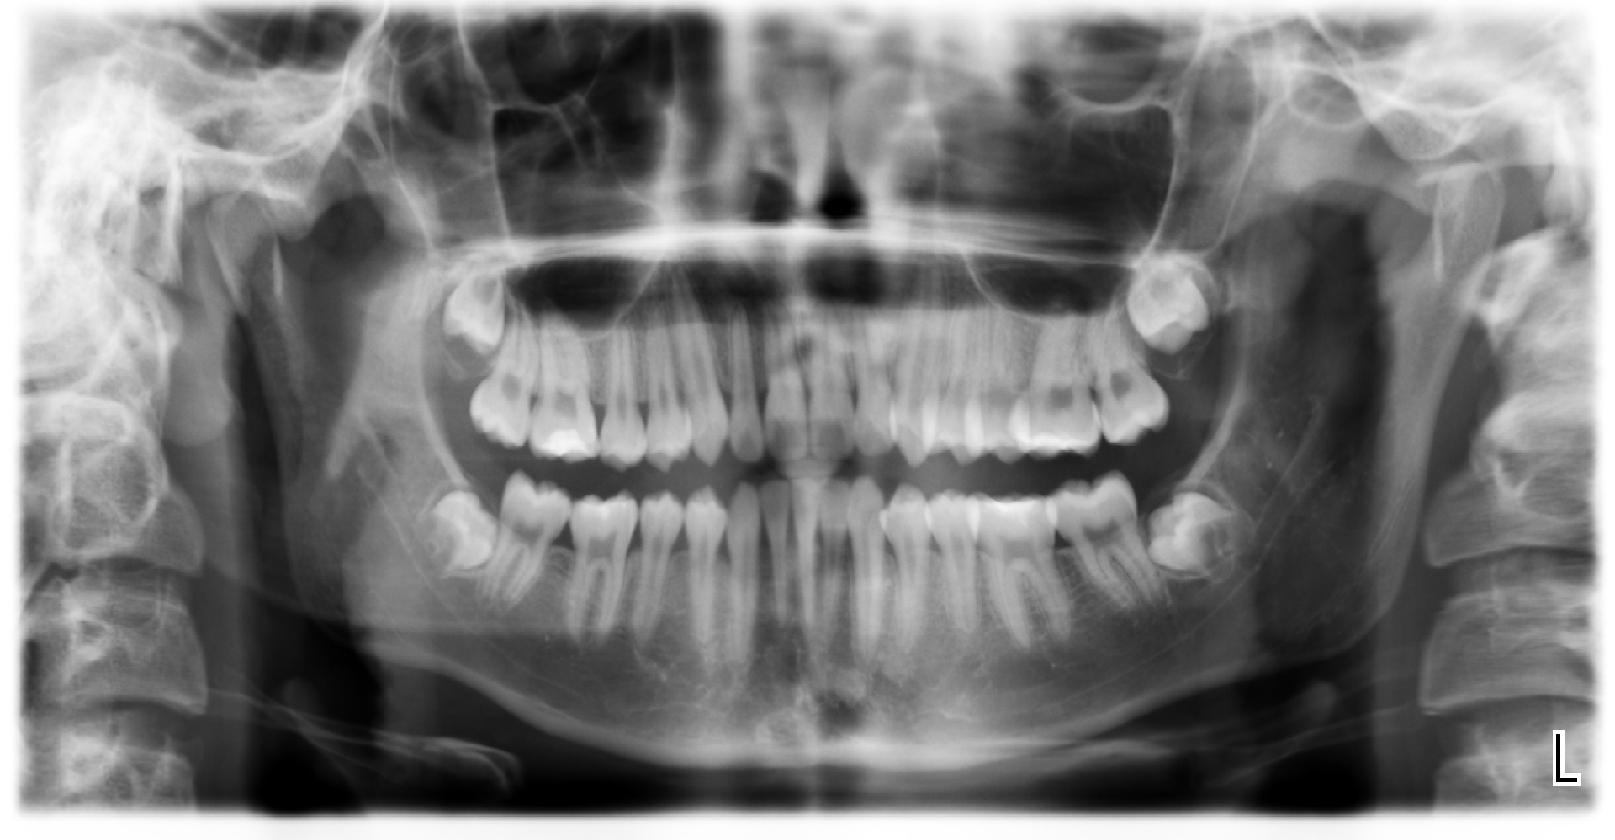Mesio-angular: (1147, 480, 1252, 586), (410, 475, 501, 584)
